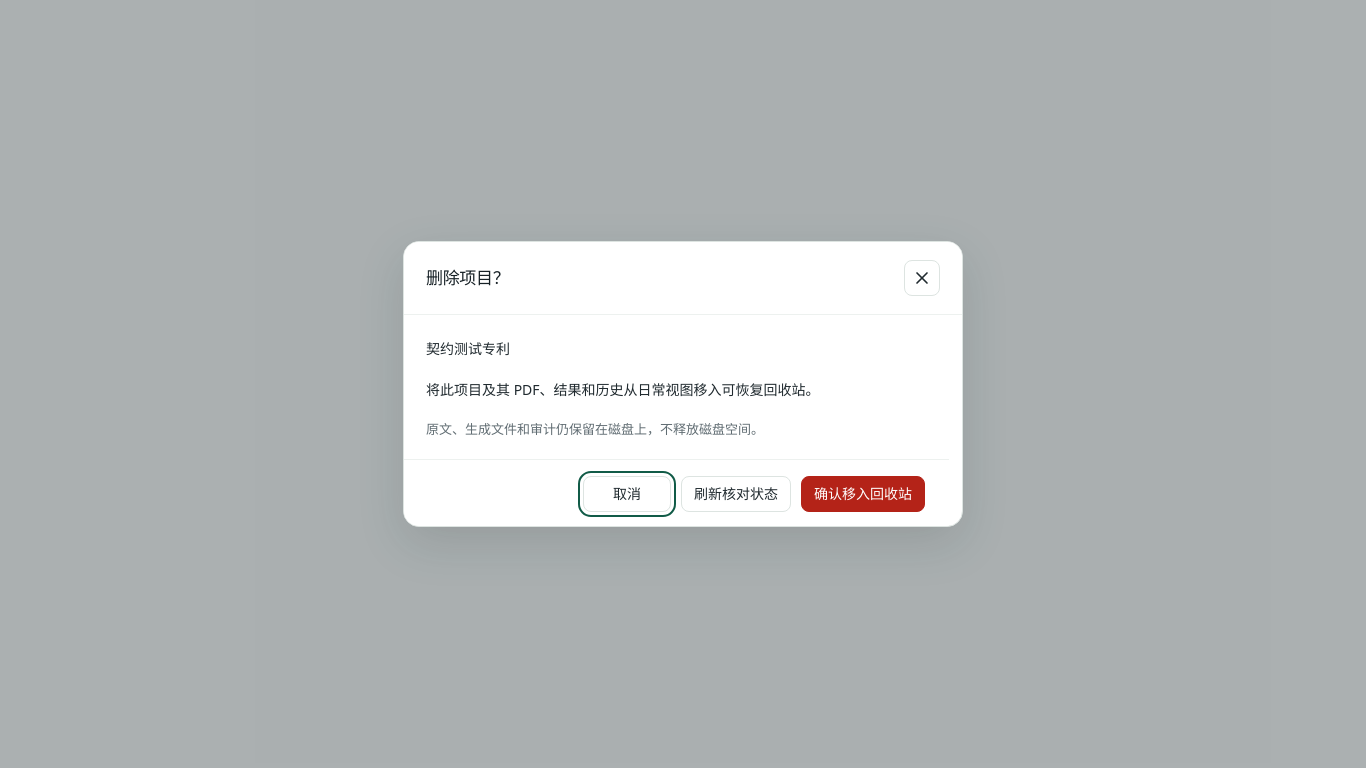
Scenario: explicit recoverable deletion and authoritative preview › also requires a refresh after a conflict, with no background write retry
Click the button "确认移入回收站".
click(863, 494)  # box [801,476,925,512]
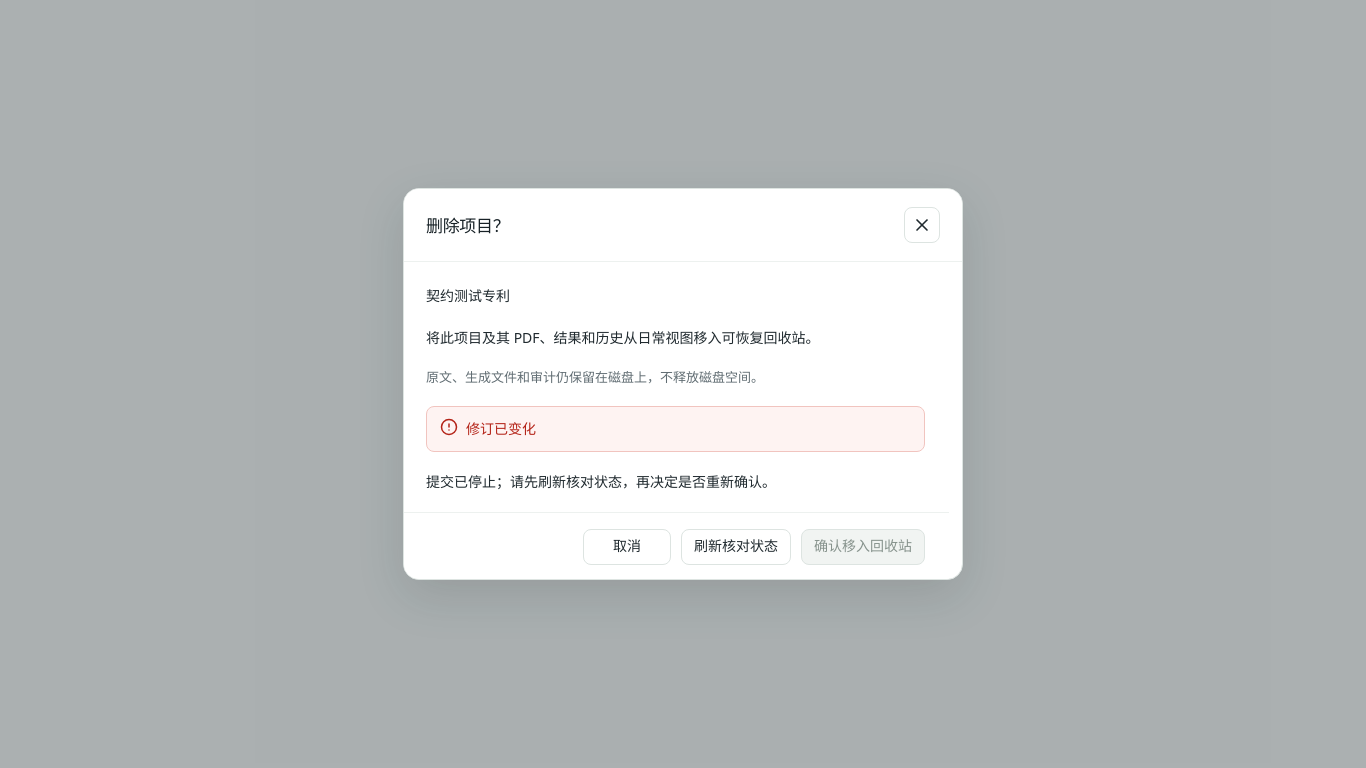
Result: the message reads "修订已变化" at [466,419,536,438]
Result: the button "确认移入回收站" is disabled at [801,528,925,564]
